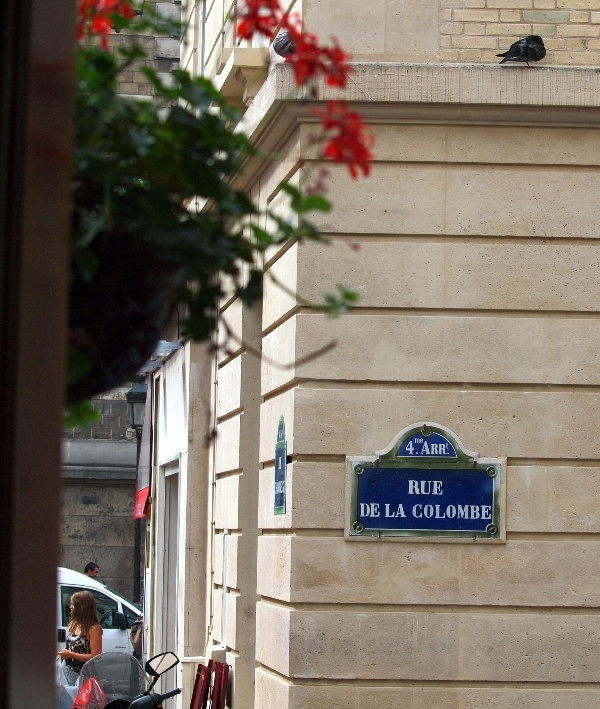text: (417, 437, 432, 455), (433, 437, 448, 455), (417, 504, 432, 520), (433, 504, 448, 520), (449, 504, 464, 520), (465, 504, 480, 520), (417, 480, 432, 495), (385, 504, 400, 518), (275, 481, 288, 495), (82, 689, 96, 702), (481, 504, 492, 520), (433, 480, 443, 495), (369, 504, 380, 517), (278, 457, 288, 470), (409, 437, 416, 455), (136, 502, 144, 517), (408, 480, 416, 495), (360, 504, 368, 517), (401, 504, 407, 518), (279, 430, 288, 439), (412, 504, 416, 520), (115, 647, 128, 649), (449, 437, 450, 455), (145, 502, 146, 517)
